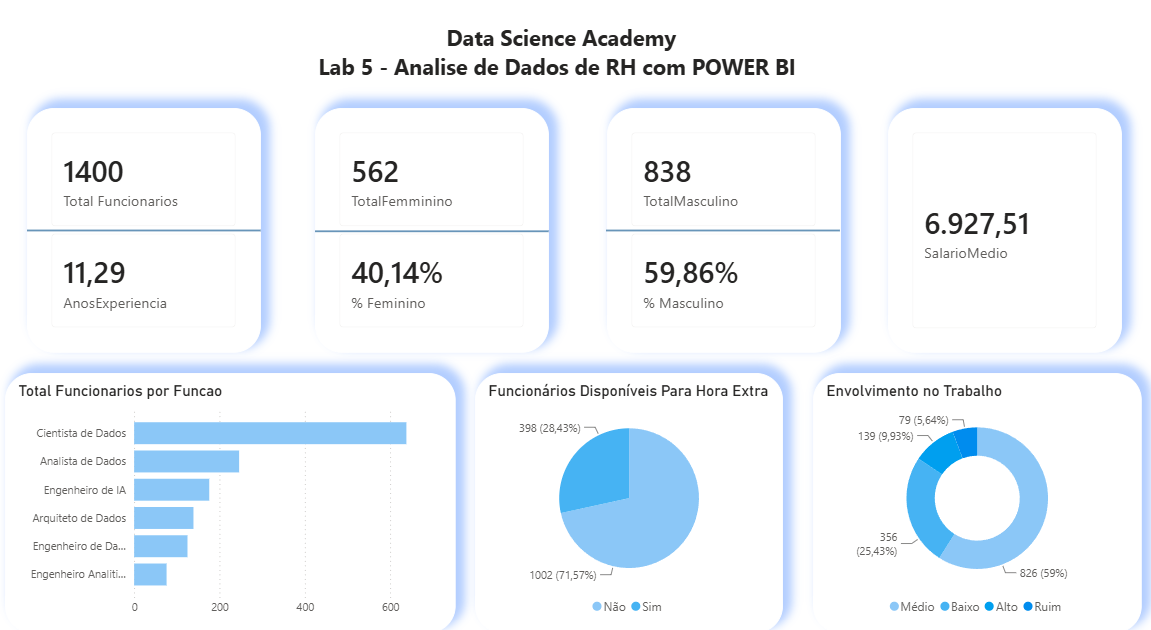

The dashboard page shown, as its layout file describes it:
{"tool":"powerbi","page":{"name":"Página 1","canvas":[1280,720],"ordinal":0},"visuals":[{"type":"barChart","fields":{"Category":["DatasetRH.Funcao"],"Y":["Medidas.Total Funcionarios"]},"box":[8.8,432.5,498.8,287.5],"z":0},{"type":"pieChart","title":"Funcionários Disponíveis  Para Hora Extra","fields":{"Category":["DatasetRH.Disponivel_Hora_Extra"],"Y":["Medidas.Total Funcionarios"]},"box":[528.8,432.5,341.2,287.5],"z":1000},{"type":"donutChart","title":"Envolvimento no Trabalho ","fields":{"Y":["Medidas.Total Funcionarios"],"Category":["DatasetRH.Envelvimento Trabalho"]},"box":[903.8,432.5,363.8,287.5],"z":2000},{"type":"textbox","box":[351.2,40,518.8,83.8],"z":3000},{"type":"cardVisual","fields":{"Data":["Medidas.Total Funcionarios","Medidas.AnosExperiencia"]},"box":[33.8,140,258.8,271.2],"z":4000},{"type":"cardVisual","fields":{"Data":["Medidas.TotalFemminino","Medidas.% Feminino"]},"box":[352.5,140,258.8,271.2],"z":5000},{"type":"cardVisual","fields":{"Data":["Medidas.TotalMasculino","Medidas.% Masculino"]},"box":[675,140,258.8,271.2],"z":6000},{"type":"cardVisual","fields":{"Data":["Medidas.SalarioMedio"]},"box":[986.2,140,258.8,271.2],"z":7000},{"type":"shape","box":[352.5,147.5,258.8,257.5],"z":8000},{"type":"shape","box":[675,140,258.8,271.2],"z":9000},{"type":"shape","box":[33.8,140,258.8,271.2],"z":9001}]}

Visuals, with their boxes in screenshot pixels (x1, y1, x2, y2), scaled from the page's 1280x720 canvas onto the 1151x630 screenshot:
barChart - DatasetRH.Funcao x Medidas.Total Funcionarios: 8:378:456:629
"Funcionários Disponíveis  Para Hora Extra" pieChart: 476:378:782:629
"Envolvimento no Trabalho " donutChart: 813:378:1140:629
textbox: 316:35:782:108
cardVisual - Medidas.Total Funcionarios x Medidas.AnosExperiencia: 30:122:263:360
cardVisual - Medidas.TotalFemminino x Medidas.% Feminino: 317:122:550:360
cardVisual - Medidas.TotalMasculino x Medidas.% Masculino: 607:122:840:360
cardVisual - Medidas.SalarioMedio: 887:122:1120:360
shape: 317:129:550:354
shape: 607:122:840:360
shape: 30:122:263:360
